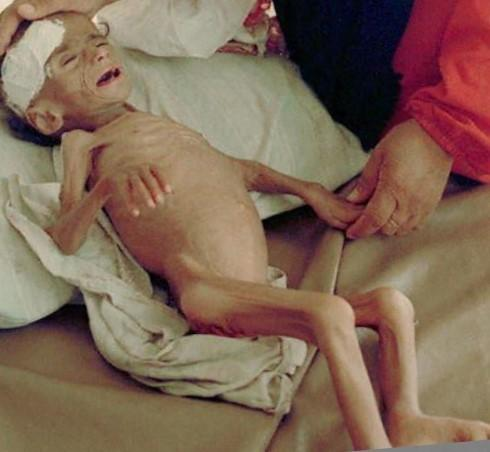Stunting: (1, 0, 158, 140)
